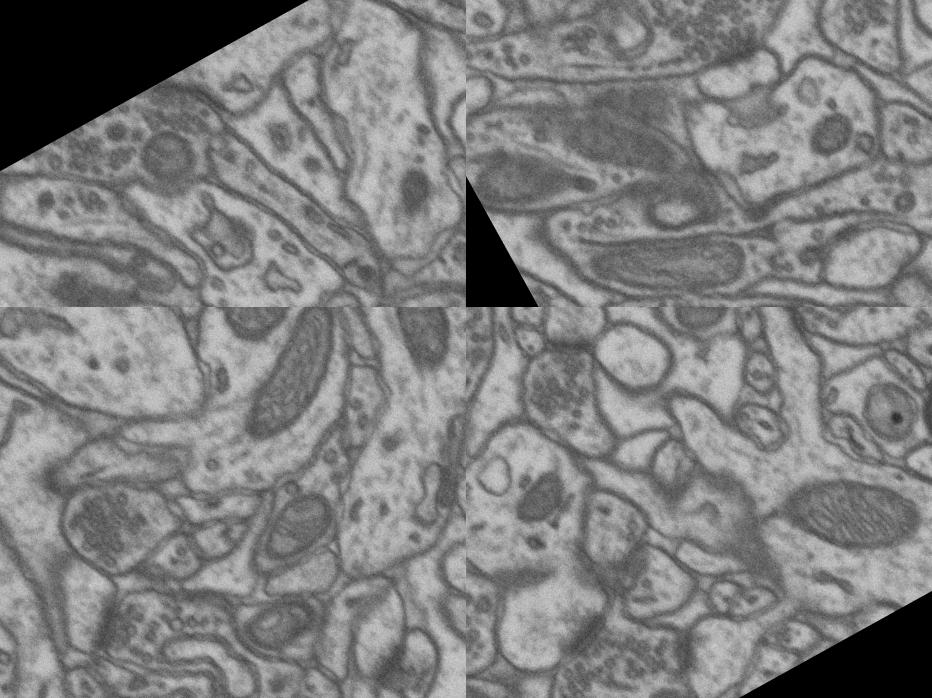mitochondria: (526, 47, 725, 258), (705, 410, 896, 591), (466, 97, 629, 271), (197, 307, 383, 459), (549, 167, 750, 307), (240, 479, 354, 580), (230, 578, 333, 674), (843, 364, 932, 460), (185, 307, 323, 364), (125, 112, 212, 198), (371, 307, 466, 378), (475, 468, 558, 548), (799, 0, 889, 67), (782, 104, 862, 178), (466, 642, 532, 698)
